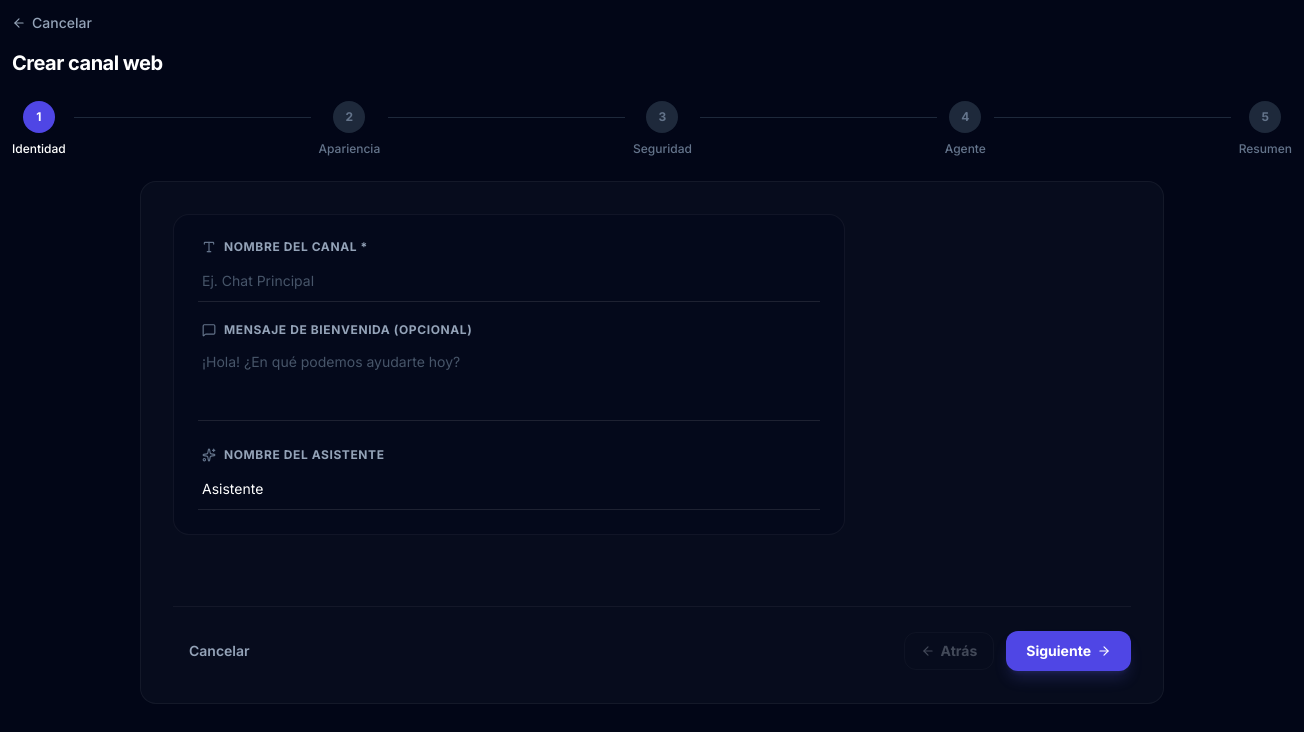
Test: WebChannelStepForm › does not advance from the identity step when name is empty
Click the button "Siguiente".
click(1069, 651)  # box [1006,631,1131,671]
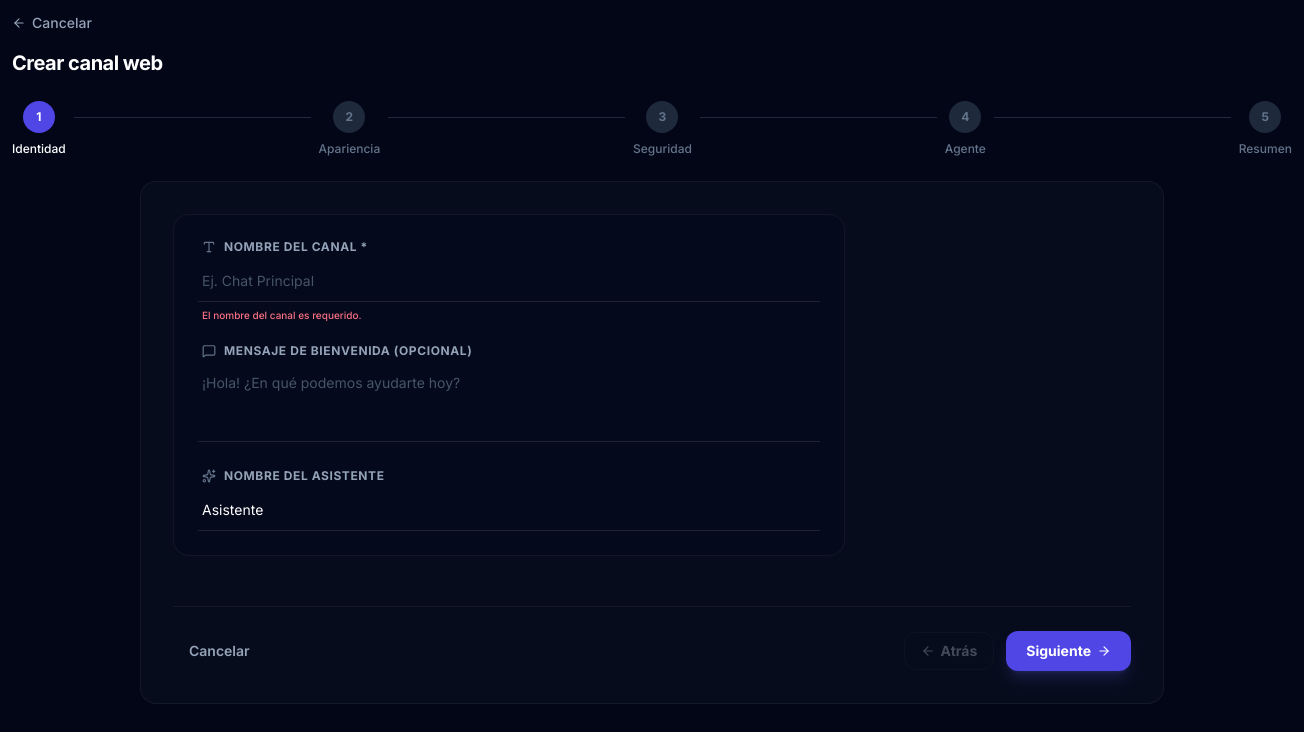
Expected: the field with test id "field-name" is shown, [198,261,820,302]
Result: the text "El nombre del canal es requerido." is shown at [202,309,362,321]
